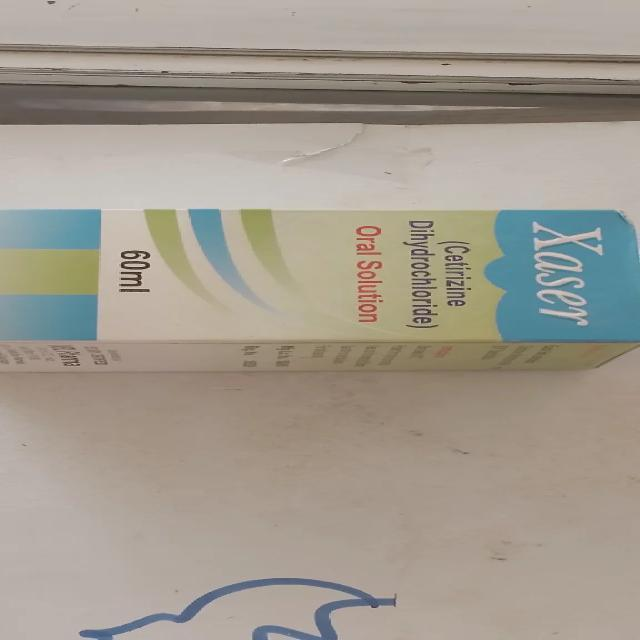drug-name: (527, 222, 607, 327)
